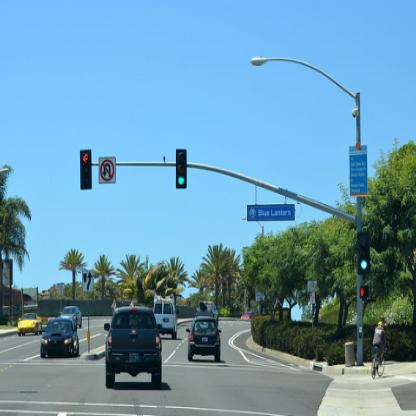green: (358, 230, 370, 274), (176, 148, 187, 190)
left-red: (80, 150, 92, 190)
